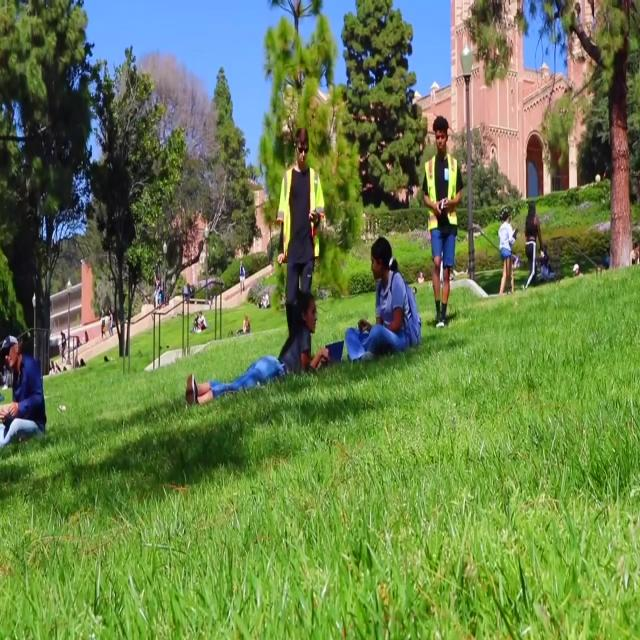Reflective-Jacket: (277, 164, 329, 272), (422, 151, 463, 238)
